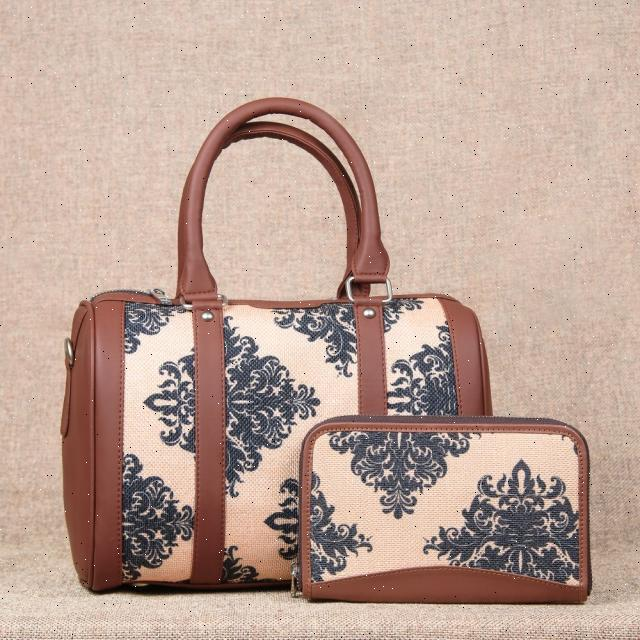handbag: (59, 96, 493, 594), (289, 413, 592, 605)
